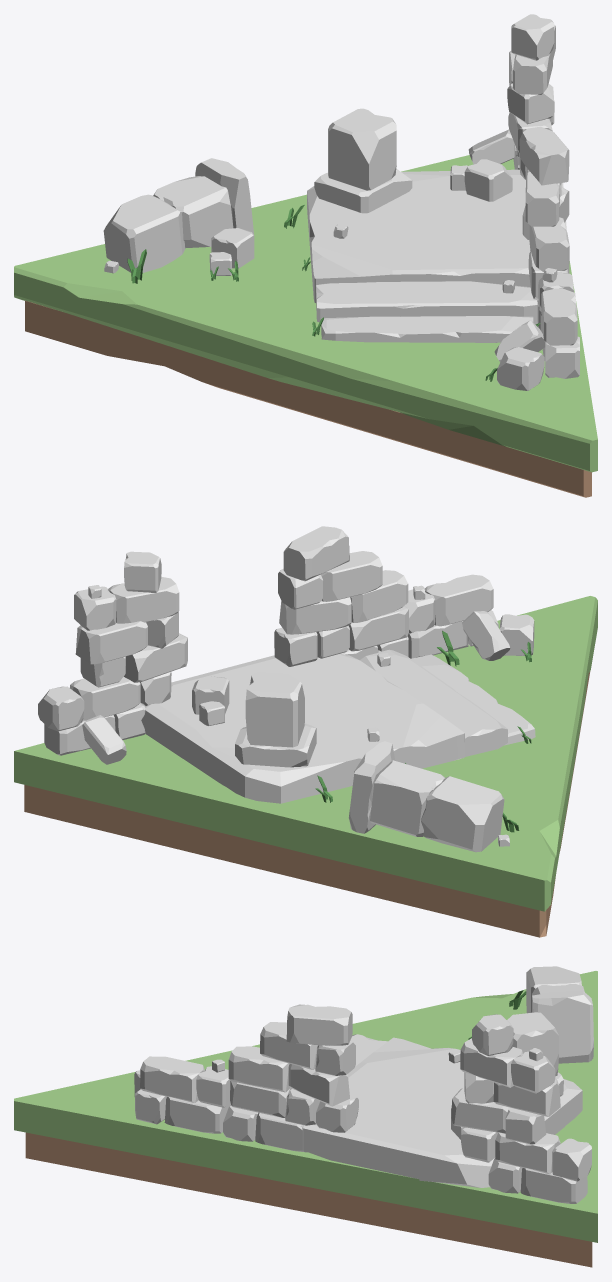
File: MLTestModel.fbx
3 views of the same model, one above another, from view 1: azimuth 30°, elevation 25°; view 2: azimuth 150°, elevation 25°; view 3: azimuth 270°, elevation 25° (orthographic). The views are drawn at different scales.
Parts seen in each view (by area): view 1: Playdough Stones, Floor; view 2: Playdough Stones, Floor; view 3: Playdough Stones, Floor.
Boxes of the visible parts, box(x1,y1,x2,y2) form: Playdough Stones: box(103, 14, 579, 390); Floor: box(14, 155, 597, 497); Playdough Stones: box(38, 526, 535, 852); Floor: box(14, 596, 597, 937); Playdough Stones: box(134, 966, 593, 1203); Floor: box(14, 971, 597, 1267).
Bounding box in the file's own units: 1843 × 789 × 1864.
Materials: 1 (1 with a texture image).
